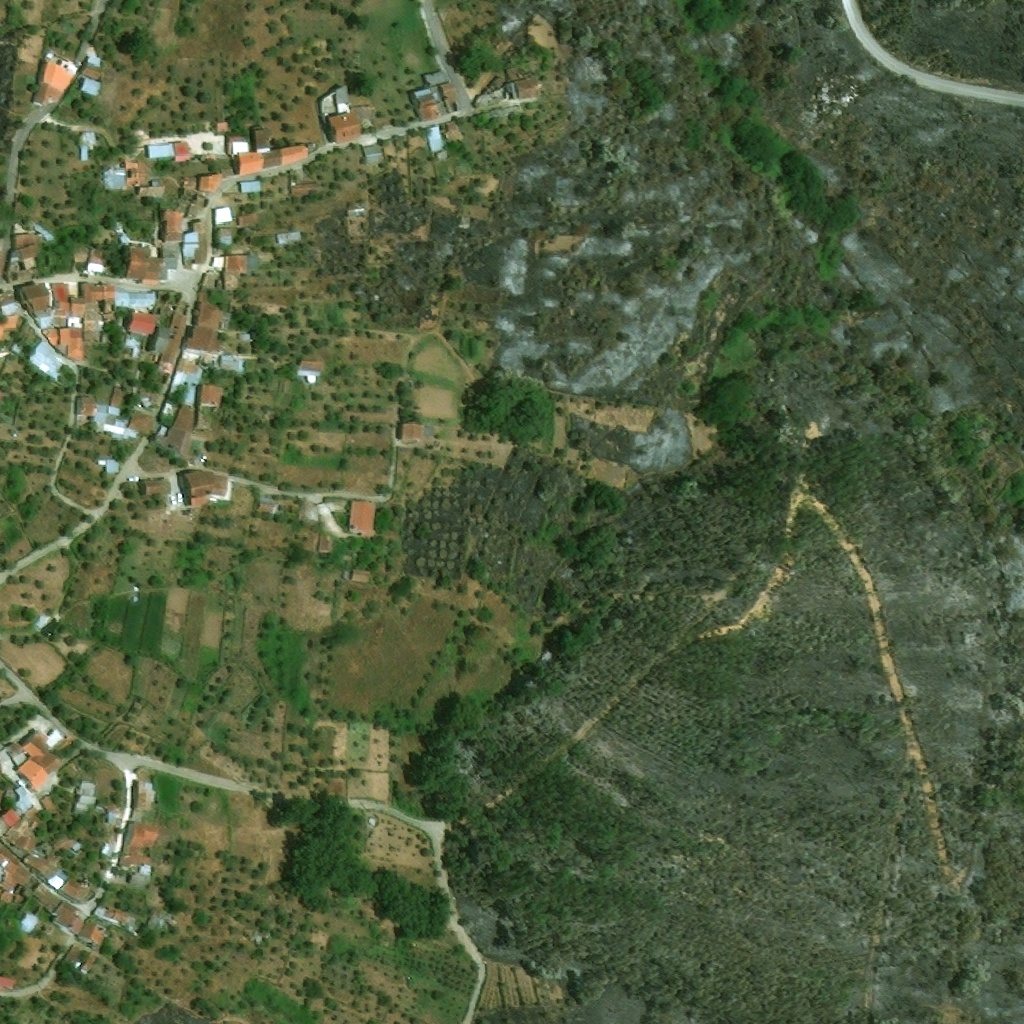0 no-damage: (83, 283, 156, 357), (15, 727, 75, 792), (151, 404, 196, 455), (146, 312, 188, 365), (125, 241, 180, 281), (32, 56, 75, 106), (118, 822, 161, 868), (213, 252, 259, 291), (180, 468, 226, 506), (167, 356, 204, 403), (406, 83, 447, 123), (29, 339, 68, 381), (0, 845, 34, 893), (19, 283, 54, 329), (225, 135, 263, 177), (6, 806, 37, 854), (180, 220, 206, 270), (102, 159, 145, 187), (324, 112, 361, 144), (348, 499, 376, 533), (195, 302, 231, 328), (185, 326, 221, 352), (62, 942, 98, 967), (31, 882, 61, 910), (130, 782, 154, 816), (162, 209, 187, 241), (23, 853, 54, 878), (59, 327, 84, 357), (296, 358, 323, 385), (440, 81, 462, 114), (78, 918, 107, 943), (401, 421, 434, 442), (129, 310, 157, 334), (279, 142, 308, 165), (14, 784, 35, 813), (423, 123, 443, 153), (0, 807, 20, 837), (16, 910, 40, 935), (55, 901, 78, 927), (198, 384, 223, 407), (60, 876, 85, 899), (4, 742, 27, 766), (43, 282, 69, 303), (106, 905, 134, 924), (260, 148, 282, 172), (444, 119, 465, 144), (79, 131, 96, 161), (361, 144, 385, 165), (143, 478, 171, 496), (6, 263, 32, 282), (129, 411, 153, 431), (197, 173, 222, 192), (123, 332, 141, 357), (333, 84, 349, 112), (79, 76, 101, 96), (220, 353, 243, 372), (0, 316, 17, 341), (145, 144, 173, 159), (290, 181, 318, 196), (115, 220, 131, 246), (87, 249, 105, 272), (422, 69, 447, 85), (253, 129, 271, 151), (0, 296, 19, 316), (107, 387, 125, 408), (103, 423, 125, 440), (16, 244, 39, 260), (275, 231, 301, 245), (81, 63, 102, 80), (14, 233, 36, 249), (212, 206, 231, 224), (33, 613, 52, 631), (136, 187, 164, 199), (75, 397, 93, 415), (39, 795, 57, 813), (35, 839, 53, 857), (351, 568, 371, 584), (258, 495, 276, 512), (240, 180, 261, 194), (46, 874, 64, 890), (71, 295, 84, 317), (72, 243, 87, 262), (317, 532, 331, 552), (235, 212, 256, 225), (10, 338, 26, 355), (77, 779, 94, 795), (172, 142, 190, 157), (200, 274, 215, 292), (42, 328, 57, 346), (70, 914, 85, 932), (217, 228, 232, 245), (73, 960, 90, 975), (94, 404, 107, 423), (162, 401, 177, 417), (136, 394, 152, 409), (120, 480, 139, 492), (72, 803, 88, 817), (179, 177, 196, 190), (0, 890, 12, 908), (100, 842, 114, 857), (147, 913, 159, 930), (130, 875, 146, 887), (57, 867, 71, 880), (105, 460, 120, 472), (78, 795, 96, 805), (23, 256, 36, 269), (0, 975, 13, 988), (185, 205, 197, 219), (105, 412, 117, 426), (68, 317, 83, 328), (122, 428, 137, 439), (9, 249, 20, 263), (13, 221, 25, 233), (88, 56, 101, 67), (107, 811, 117, 825), (84, 44, 95, 56), (106, 406, 119, 416), (138, 865, 151, 875), (71, 841, 82, 852), (436, 150, 448, 160), (173, 155, 189, 162), (237, 333, 251, 341), (197, 289, 207, 300), (59, 300, 69, 311), (115, 419, 126, 428), (92, 806, 103, 815), (31, 225, 42, 233), (101, 332, 109, 341), (107, 802, 116, 810), (368, 817, 377, 825), (52, 613, 60, 621), (212, 247, 221, 254), (30, 820, 37, 828), (149, 181, 158, 187), (97, 459, 106, 465), (153, 354, 157, 362)
2 major-damage: (506, 76, 539, 99), (472, 88, 504, 108), (505, 61, 531, 80), (480, 74, 503, 94)
3 destroyed: (346, 205, 366, 217), (458, 215, 470, 229)
4 un-classified: (0, 390, 5, 411)
